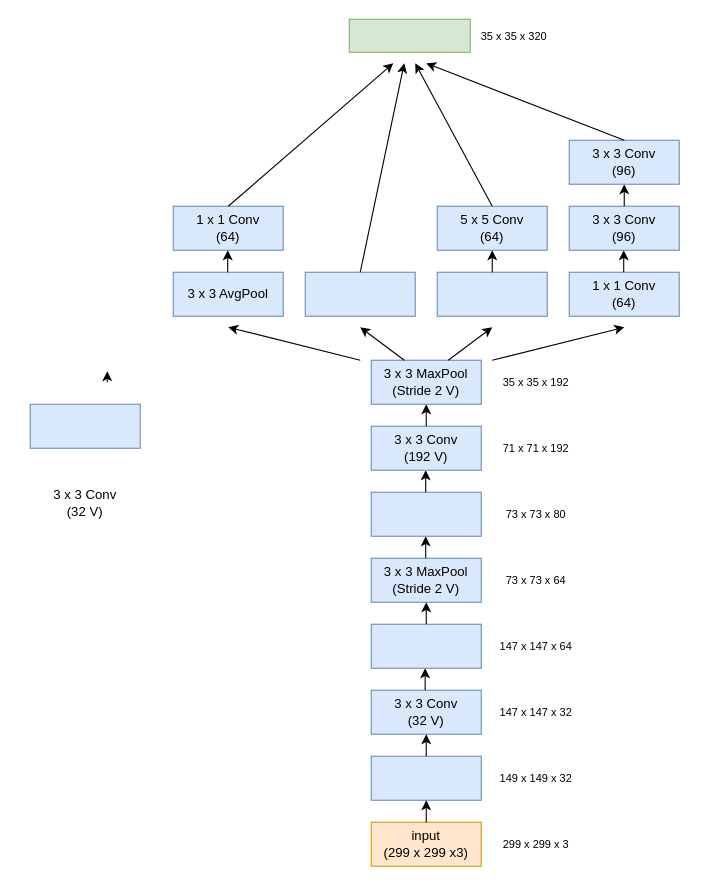
Image size: 708x886. Some labels were removed from this diagram. The centre of each missing label's shape, as x and y in pixels:
1 x 1 Conv (48): the point at 491,293
1 x 1 Conv (80): the point at 425,513
1 x 1 Conv (96 V): the point at 359,293
3 x 3 Conv (32 Stride 2 V): the point at 425,777
3 x 3 Conv (64): the point at 425,645
Filter Concat: the point at 409,35
